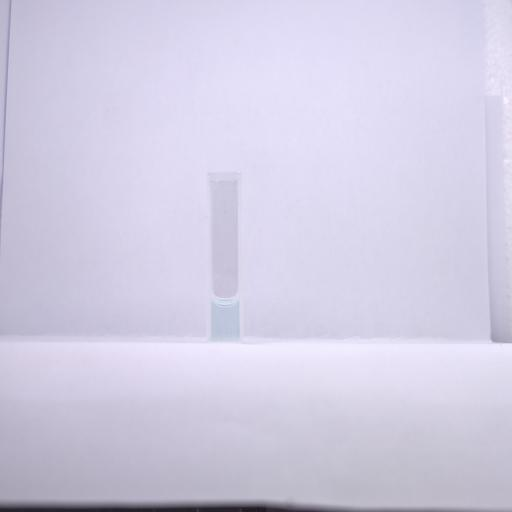cuvette: (206, 170, 243, 346)
liquid: (211, 297, 239, 342)
